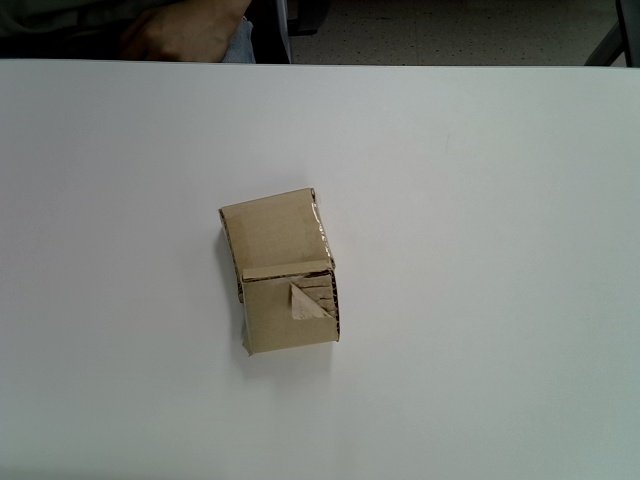defect: (242, 260, 340, 356)
normal: (219, 189, 336, 301)
